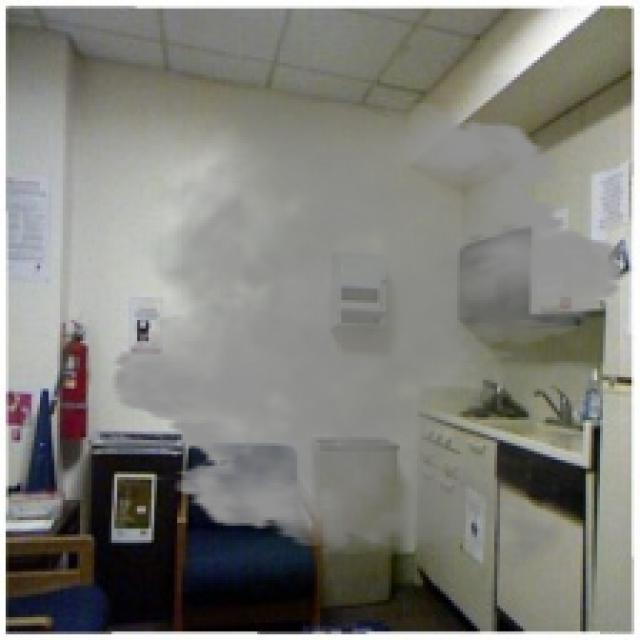smoke: (94, 74, 637, 592)
